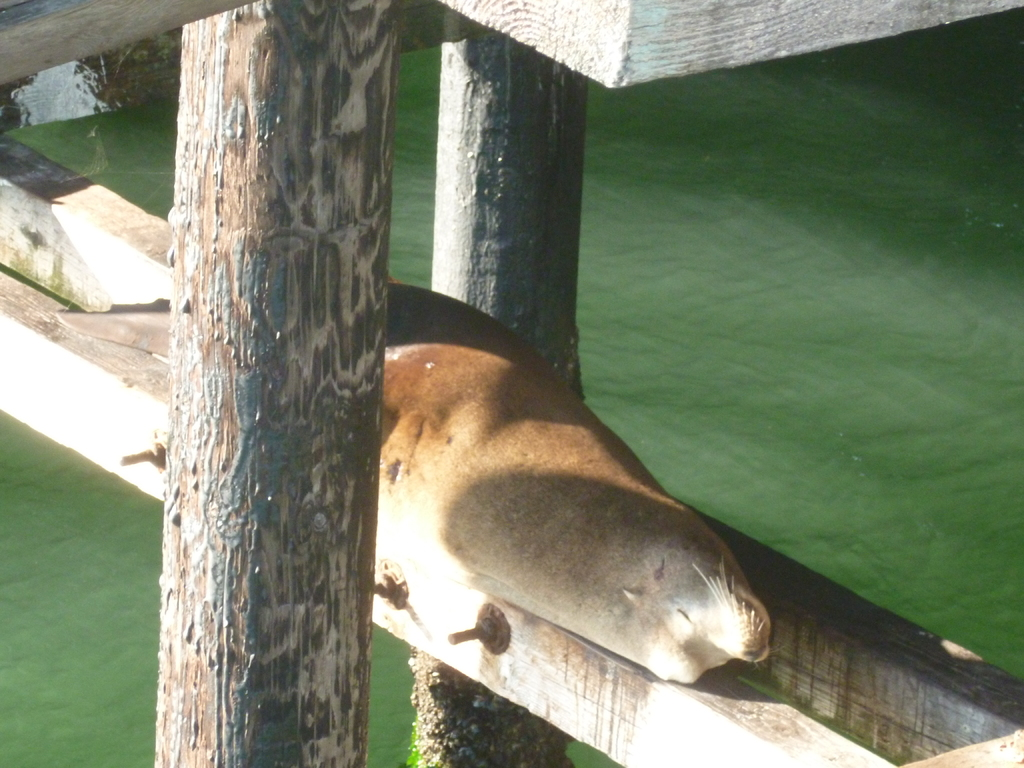Animal: (385, 278, 778, 686)
